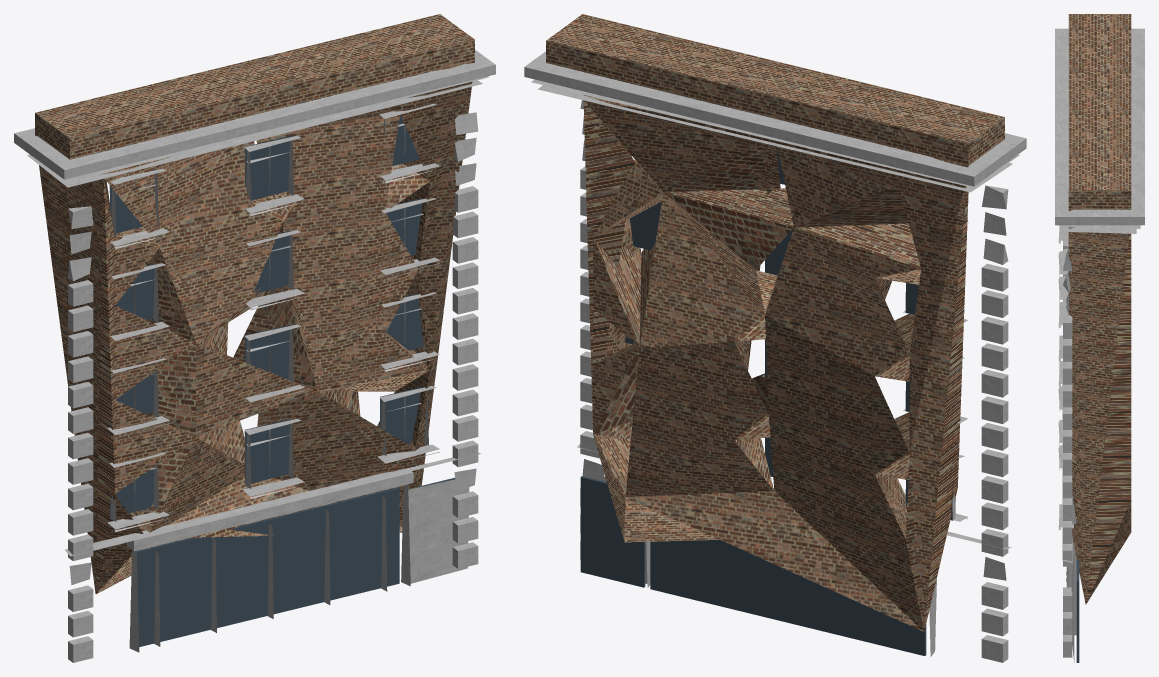
Rendered from facade_LOD1.fbx.
3 renders of one model, left to right at view 1: azimuth 30°, elevation 25°; view 2: azimuth 150°, elevation 25°; view 3: azimuth 270°, elevation 25°, orthographic. The views are drawn at different scales.
Visible parts, largest first — view 1: facade_LOD1; view 2: facade_LOD1; view 3: facade_LOD1.
Boxes of the visible parts, x1,y1,x2,y2 form: facade_LOD1: (14,14,495,662); facade_LOD1: (524,14,1026,662); facade_LOD1: (1055,14,1144,662).
Size of the model in its own units: 21.3 by 25 by 4.3.
3 materials, 2 textured.
